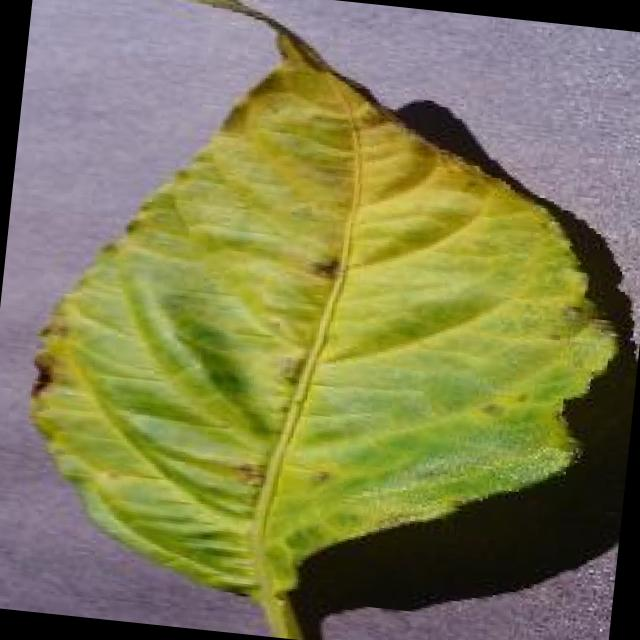Chilli_Bacterial_Spot: (1, 0, 640, 640), (296, 240, 354, 290), (23, 347, 61, 400), (552, 292, 596, 333), (227, 454, 270, 493), (270, 348, 309, 391), (304, 248, 345, 284), (304, 462, 334, 490)
